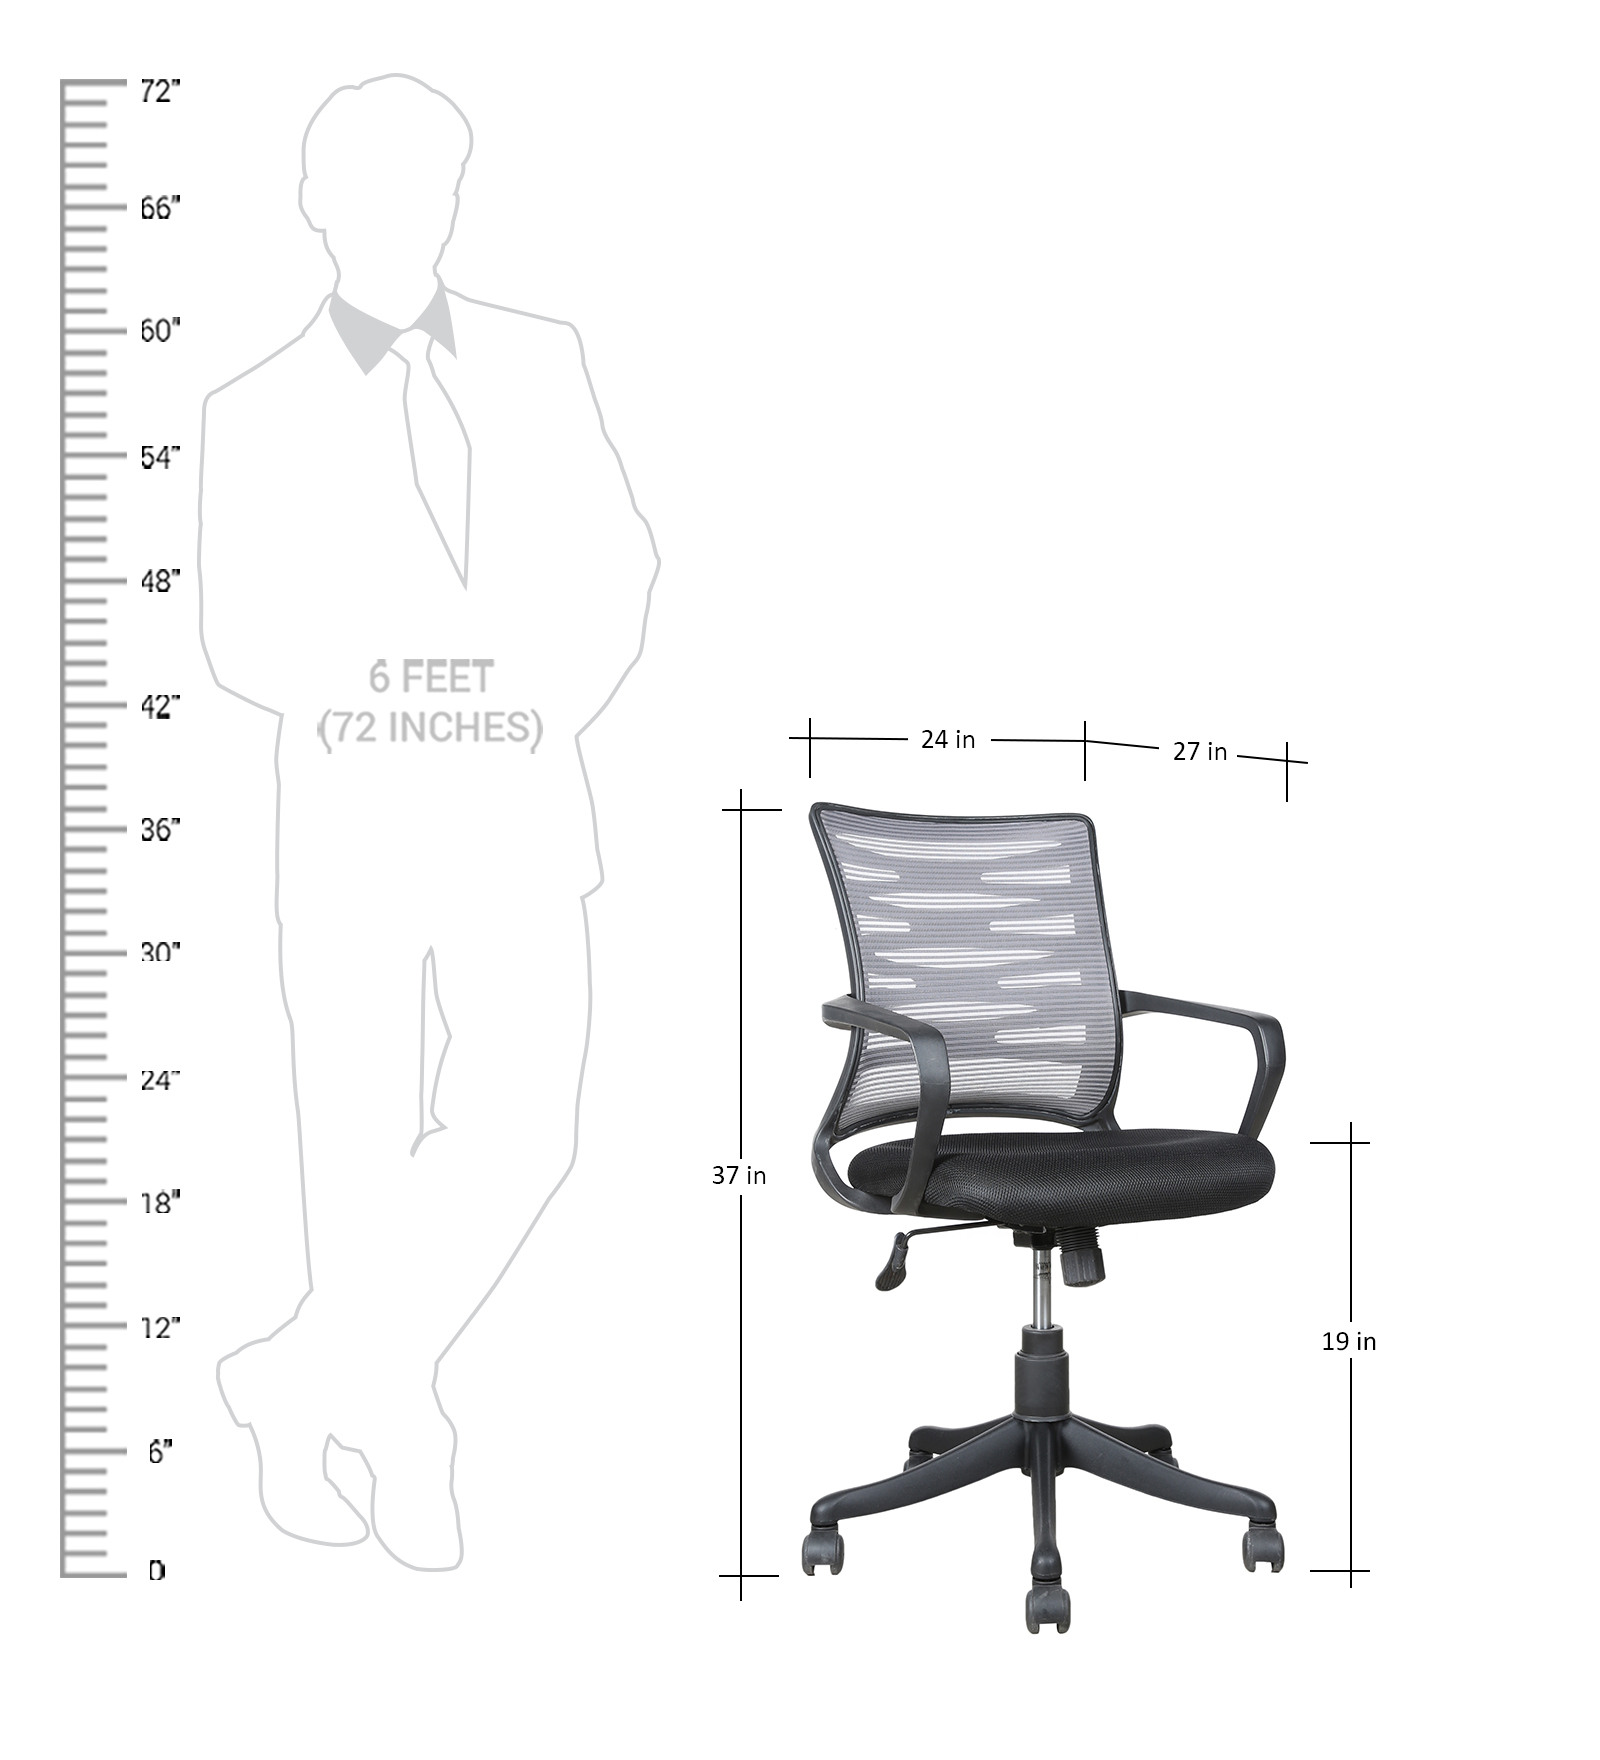Astec Ergonomic Chair in Grey Colour by Parin: (760, 785, 1326, 1693)
